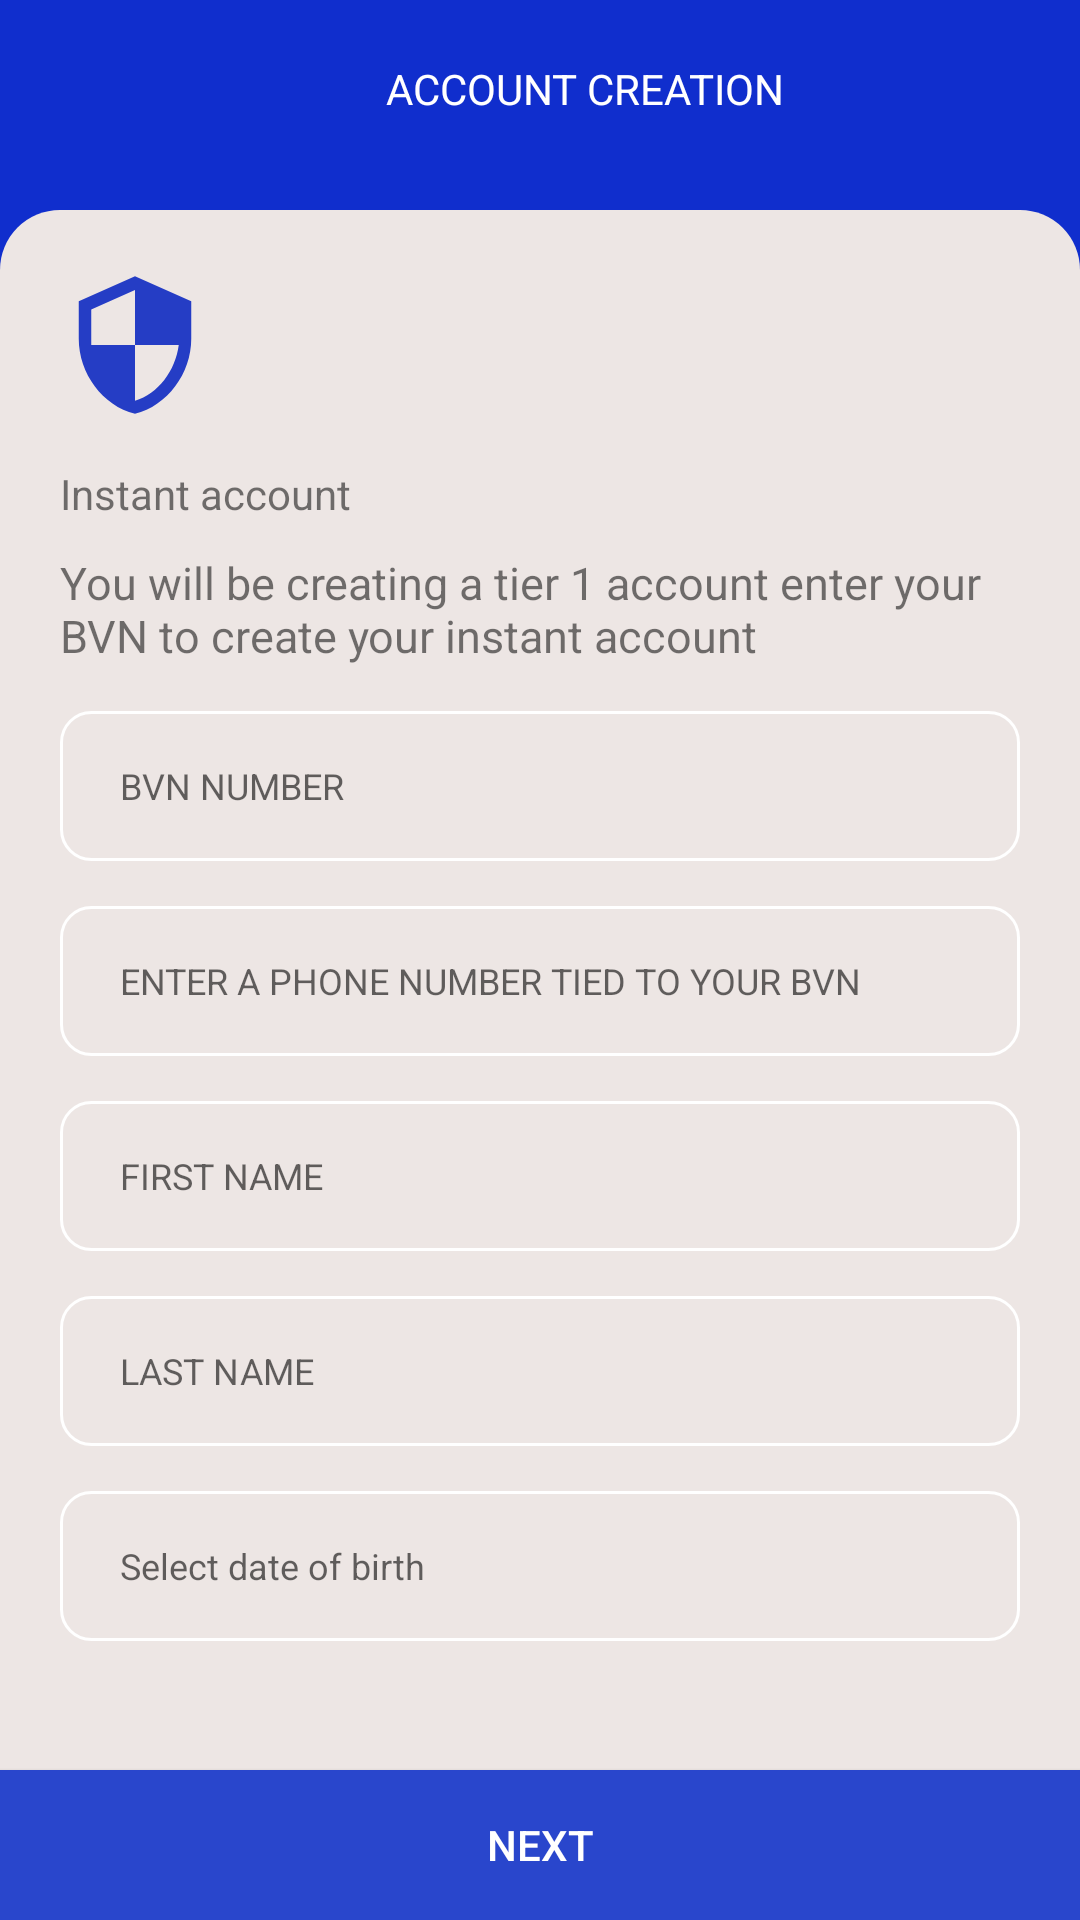

Point at icon controls on the screen. Image size 1080px x 1920px, points as (x=x, y=y).
security: (x=135, y=345)
